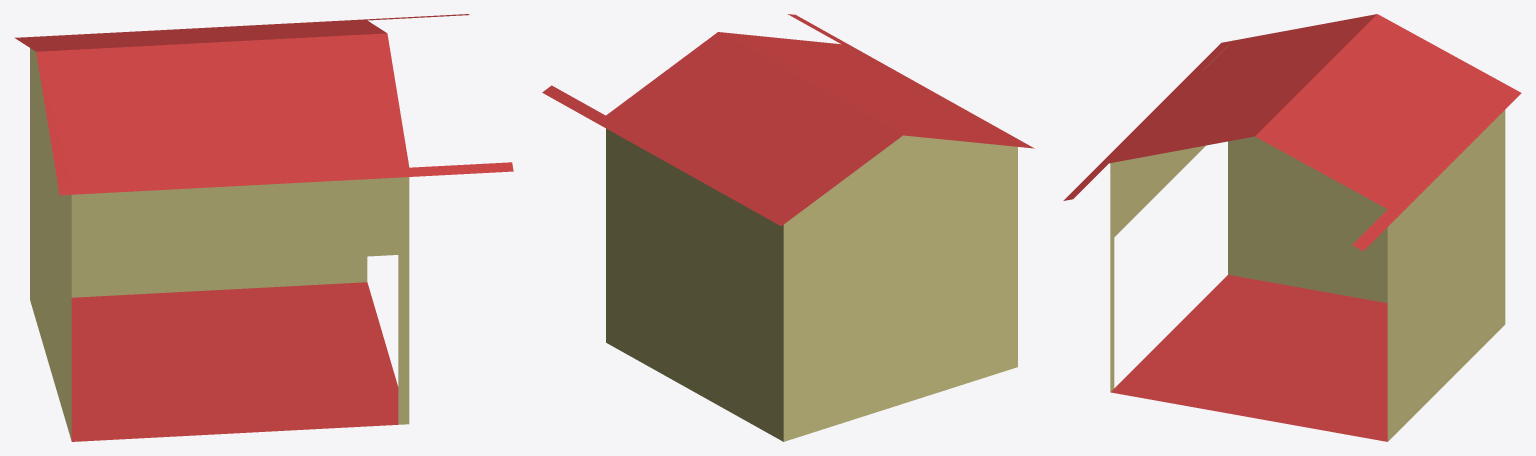
The picture shows the model from 3 angles, left to right: view 1: azimuth 30°, elevation 25°; view 2: azimuth 150°, elevation 25°; view 3: azimuth 270°, elevation 25°; orthographic projection. The views are drawn at different scales.
Size of the model in its own units: 20.08 by 18.36 by 12.44.
